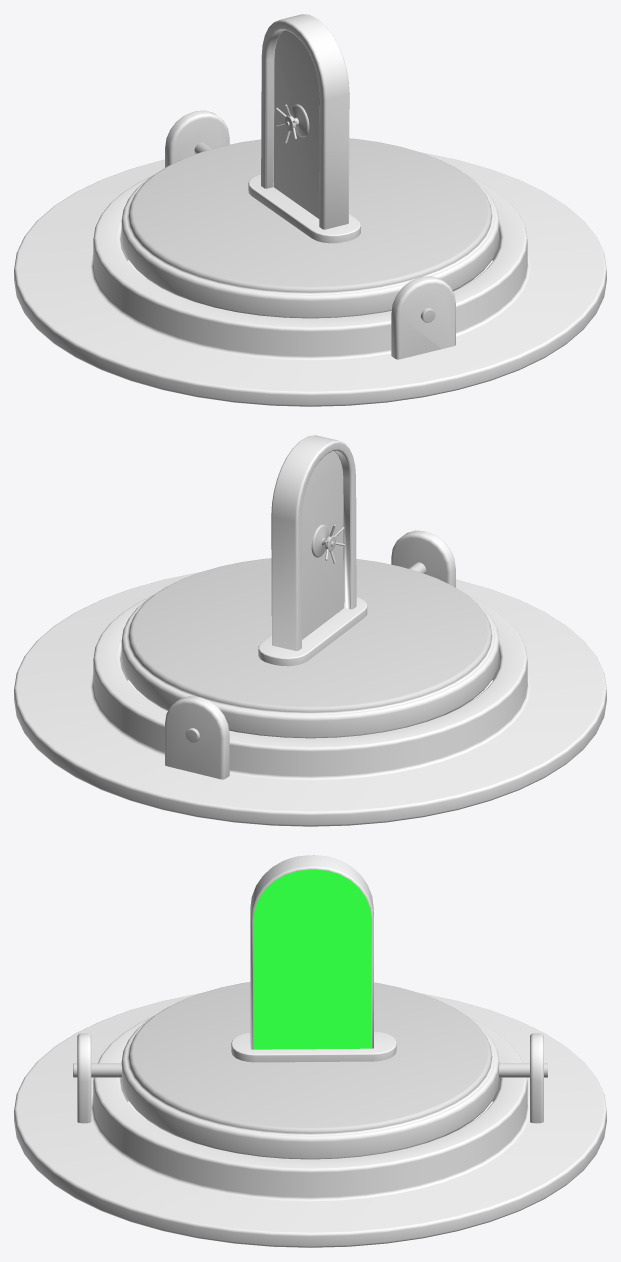
File: Banking.glb
The picture shows the model from 3 angles, top to bottom: view 1: azimuth 30°, elevation 25°; view 2: azimuth 150°, elevation 25°; view 3: azimuth 270°, elevation 25°; orthographic projection.
Parts seen in each view (by area): view 1: Circle, Circle.001, Plane.007, Plane.010, Plane.001, Plane.011, Plane, Circle.005; view 2: Circle, Circle.001, Plane.007, Plane.010, Plane, Plane.011, Plane.001, Circle.005; view 3: Circle, Circle.001, Plane.016, Plane.007, Plane.011, Plane.001, Plane, Cylinder.
Part boxes in pixels (bbox=[...]): Circle: bbox=[14, 152, 606, 406]; Circle.001: bbox=[121, 138, 499, 318]; Plane.007: bbox=[261, 14, 349, 229]; Plane.010: bbox=[273, 30, 319, 218]; Plane.001: bbox=[391, 276, 455, 359]; Plane.011: bbox=[248, 174, 360, 243]; Plane: bbox=[165, 110, 229, 167]; Circle.005: bbox=[276, 104, 309, 143]; Circle: bbox=[14, 572, 606, 826]; Circle.001: bbox=[121, 558, 499, 738]; Plane.007: bbox=[271, 435, 356, 650]; Plane.010: bbox=[301, 451, 343, 639]; Plane: bbox=[165, 696, 229, 779]; Plane.011: bbox=[258, 597, 367, 666]; Plane.001: bbox=[391, 530, 455, 587]; Circle.005: bbox=[311, 524, 344, 563]; Circle: bbox=[14, 993, 606, 1247]; Circle.001: bbox=[121, 982, 499, 1159]; Plane.016: bbox=[253, 869, 371, 1049]; Plane.007: bbox=[250, 855, 373, 1049]; Plane.011: bbox=[231, 1031, 396, 1062]; Plane.001: bbox=[77, 1033, 91, 1123]; Plane: bbox=[530, 1033, 543, 1123]; Cylinder: bbox=[73, 1063, 547, 1077].
Size of the model in its own units: 8.06 by 3.92 by 8.06.
